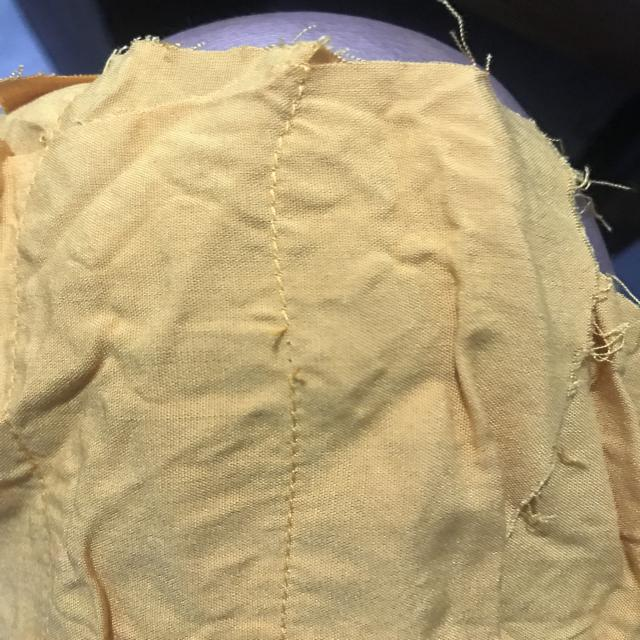broken: (262, 310, 318, 400)
good: (263, 188, 294, 282)
